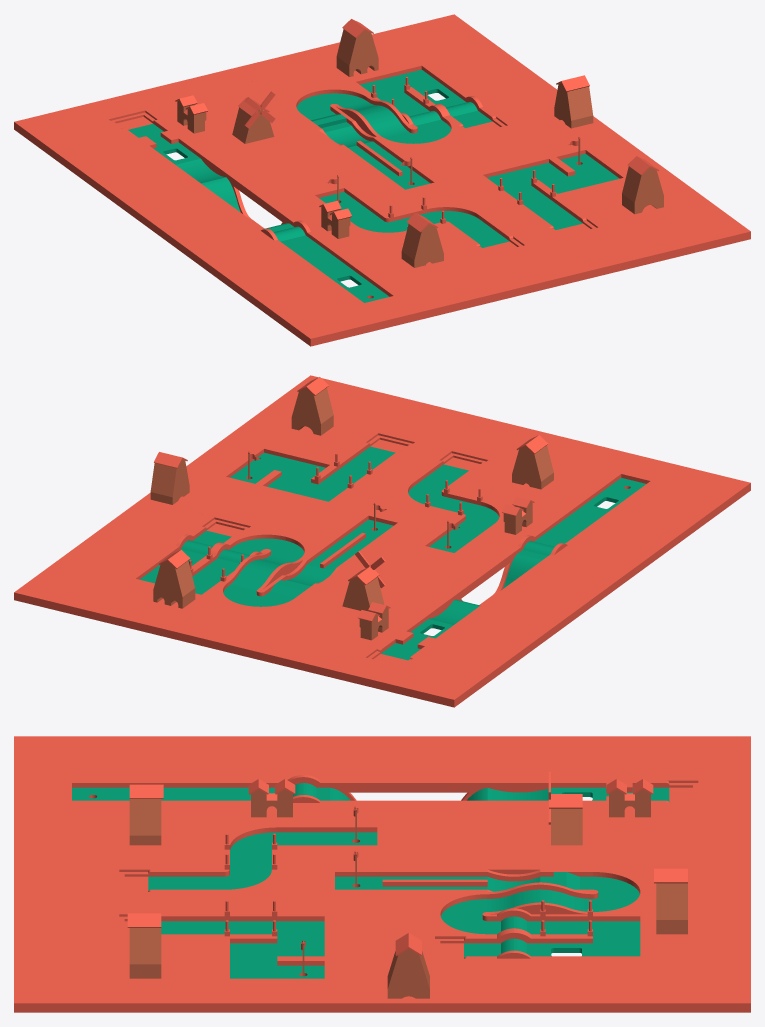
The model's file is Mini golf model.fbx.
3 renders of one model, top to bottom at view 1: azimuth 30°, elevation 25°; view 2: azimuth 150°, elevation 25°; view 3: azimuth 270°, elevation 25°, orthographic. The views are drawn at different scales.
Parts seen in each view (by area): view 1: mergedBlocks; view 2: mergedBlocks; view 3: mergedBlocks.
Boxes of the visible parts, box(x1,y1,x2,y2) form: mergedBlocks: box(14, 14, 750, 346); mergedBlocks: box(14, 375, 750, 707); mergedBlocks: box(14, 736, 750, 1012).
Bounding box in the file's own units: 120 × 22.09 × 140.
